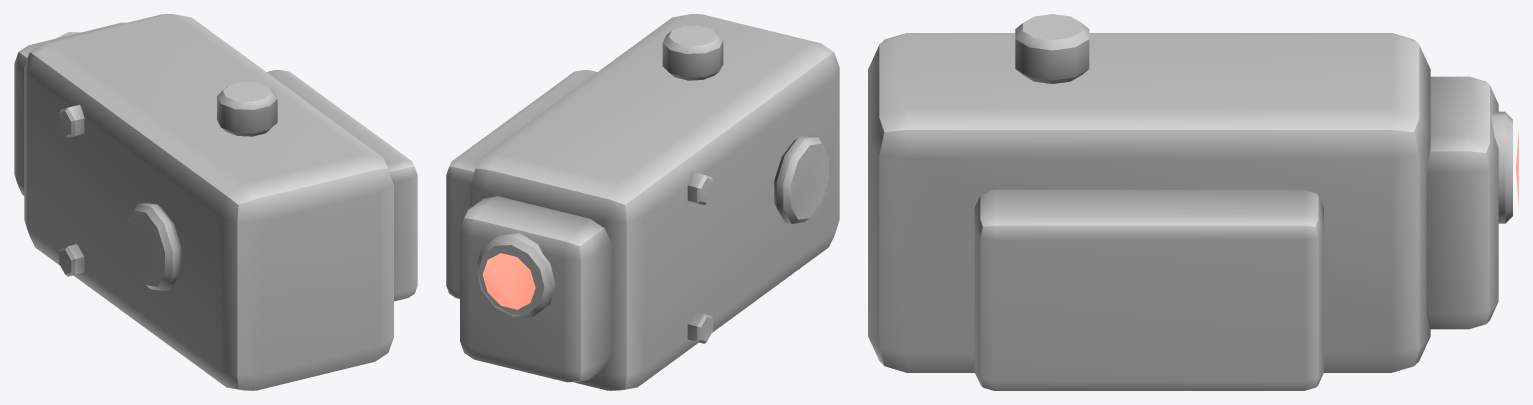
File: laser.glb
3 renders of one model, left to right at view 1: azimuth 30°, elevation 25°; view 2: azimuth 150°, elevation 25°; view 3: azimuth 270°, elevation 25°, orthographic. The views are drawn at different scales.
Parts seen in each view (by area): view 1: Body; view 2: Body, Lens; view 3: Body.
Part boxes in pixels (x1,y1,x2,y2): Body: (14, 14, 417, 390); Body: (446, 14, 839, 390); Lens: (482, 253, 535, 309); Body: (868, 14, 1512, 390).
Bounding box in the file's own units: 0.0385 × 0.035 × 0.0671.
